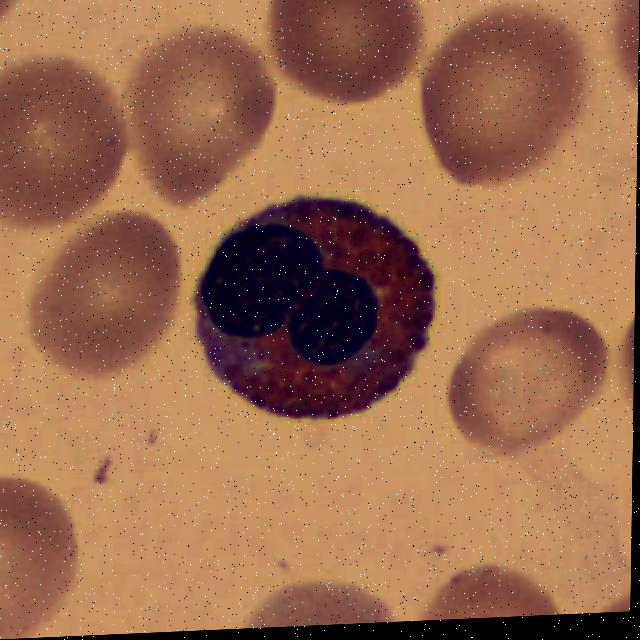eosinophil: (190, 180, 450, 431)
rbc: (415, 0, 592, 193), (438, 284, 612, 467), (18, 211, 186, 387), (132, 31, 277, 216), (0, 51, 126, 248), (270, 0, 425, 110), (0, 457, 89, 640), (229, 558, 414, 629), (414, 553, 574, 621)
